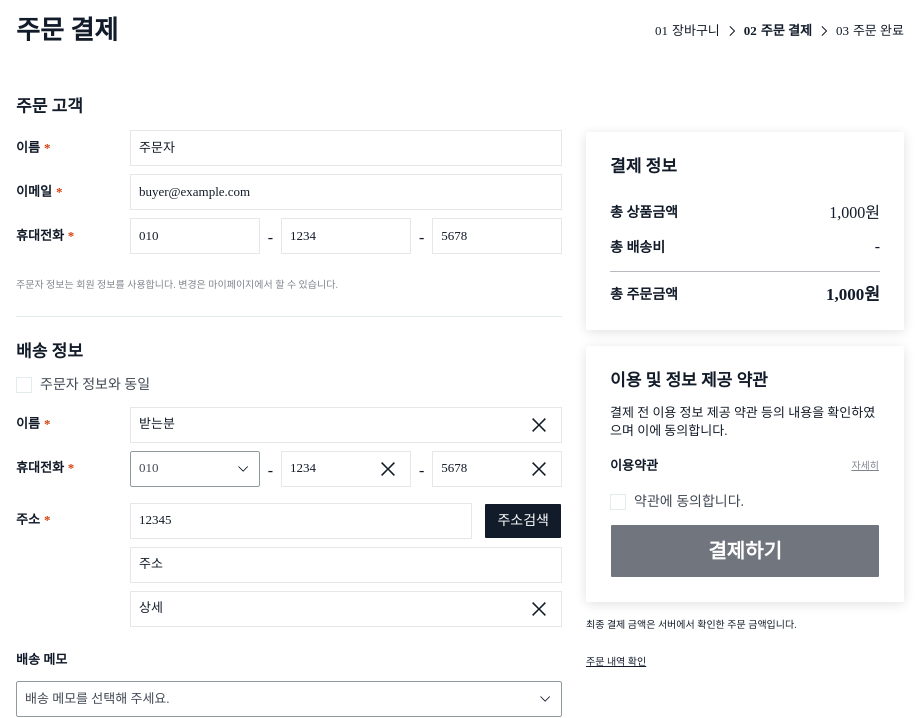
it: reports address search errors without inserting a dummy address
The image size is (923, 718).
Click the button "주소검색". click: [523, 521]
box: top-left (484, 503), bottom-right (562, 539)
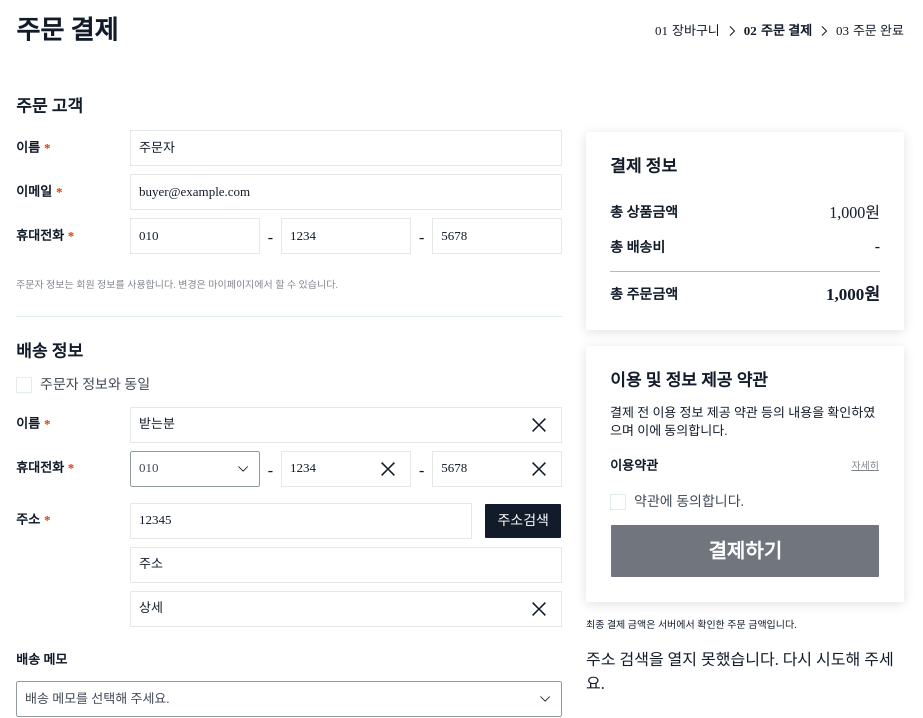
Expected: the field named "기본주소" holds "주소", top-left (139, 556), bottom-right (553, 574)
Result: the message shows "주소 검색을 열지 못했습니다" at top-left (586, 651), bottom-right (894, 692)
